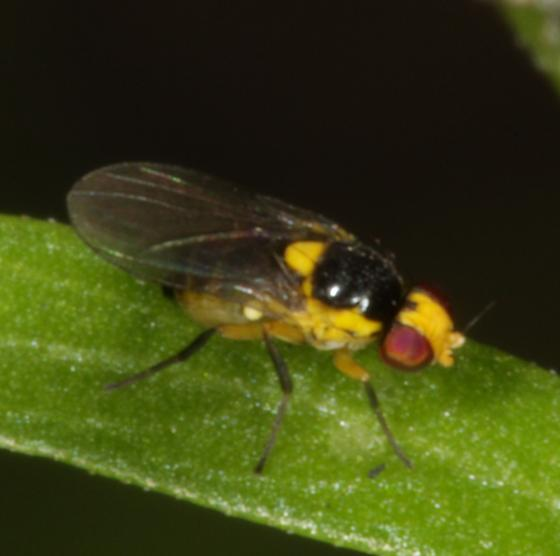Chloropidae: (64, 156, 475, 488)
